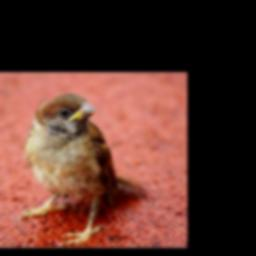Sparrow: (15, 91, 147, 246)
